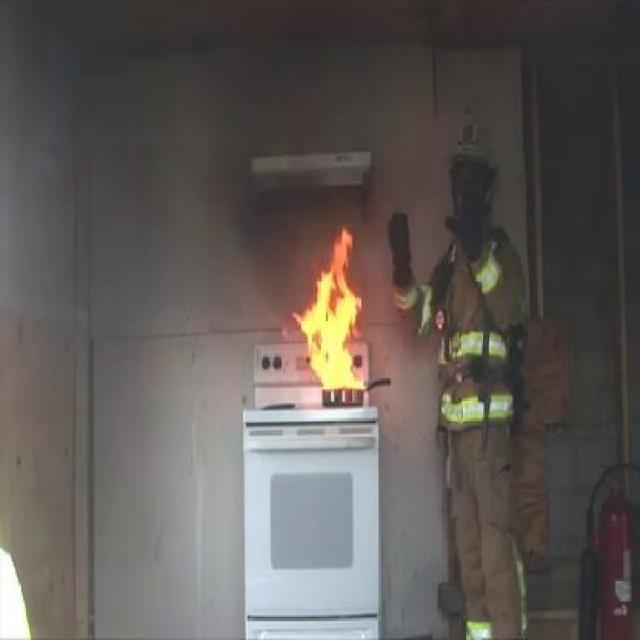fire: (296, 229, 366, 391)
